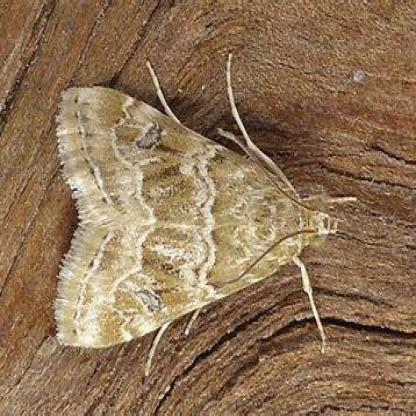Hellula undalis: (53, 45, 361, 376)
